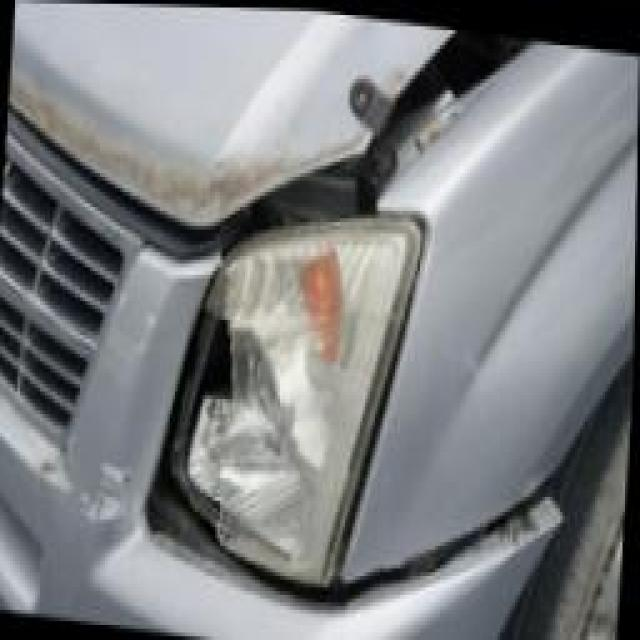Bumper: (45, 282, 167, 587)
Light: (168, 188, 404, 590)
